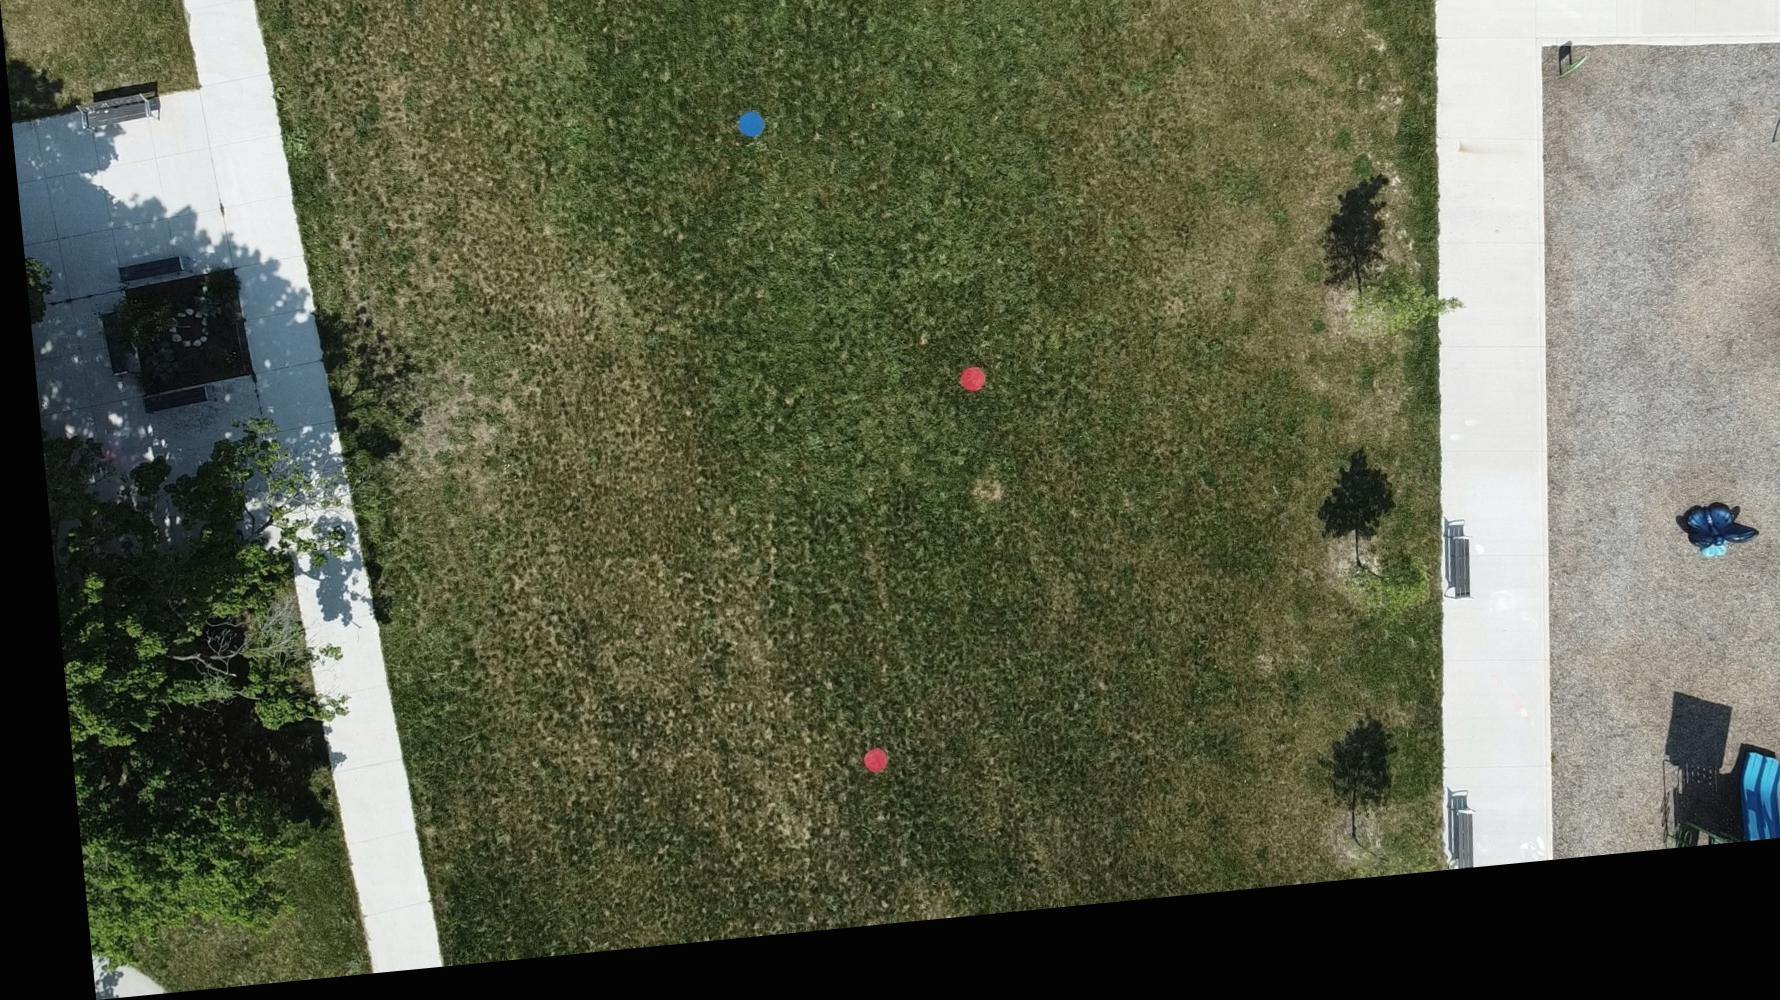Blue: (732, 125, 763, 154)
Red: (949, 384, 978, 412), (845, 763, 874, 791)
